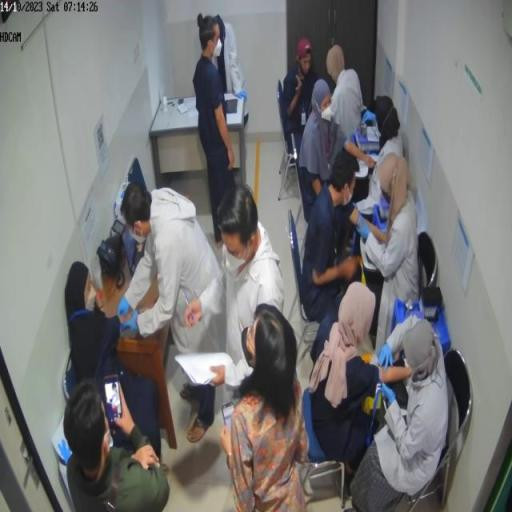person: (118, 184, 221, 446), (65, 262, 176, 459), (309, 282, 412, 477), (350, 315, 451, 510), (183, 184, 286, 375), (221, 306, 310, 511), (65, 377, 172, 511), (350, 155, 420, 353), (303, 152, 367, 367), (299, 80, 378, 222), (193, 19, 237, 252), (284, 39, 320, 154), (215, 17, 250, 127), (326, 45, 365, 143)
